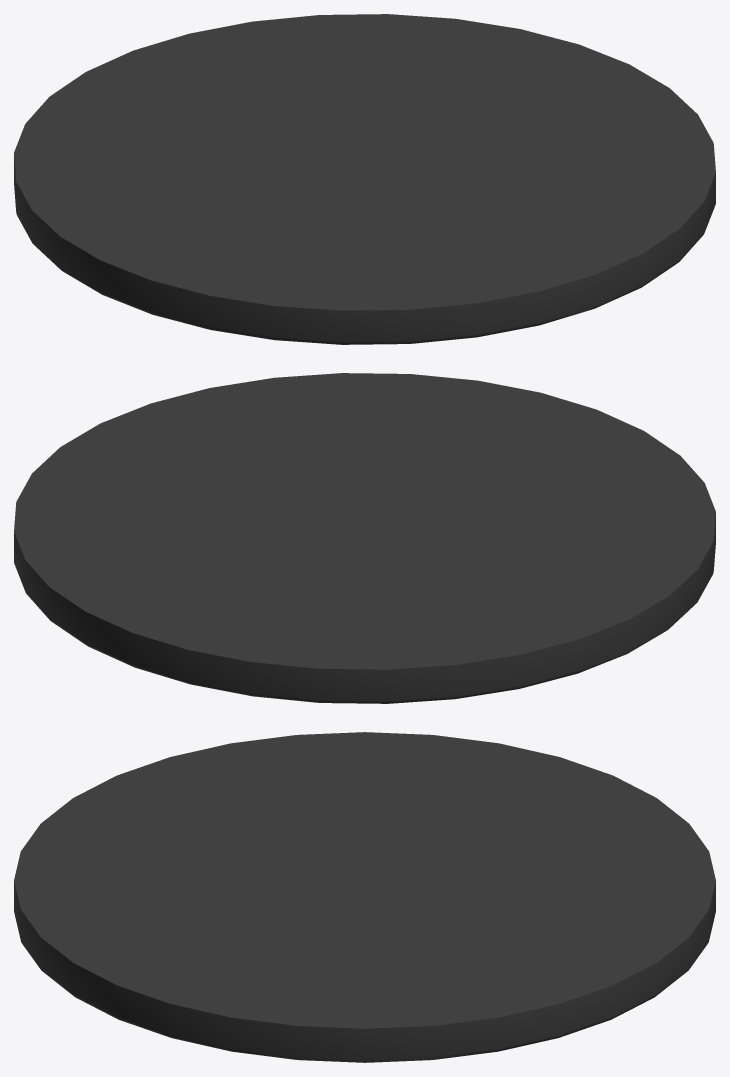
The model's file is lamp.fbx.
3 renders of one model, top to bottom at view 1: azimuth 30°, elevation 25°; view 2: azimuth 150°, elevation 25°; view 3: azimuth 270°, elevation 25°, orthographic.
Visible parts, largest first — view 1: lamp; view 2: lamp; view 3: lamp.
Boxes of the visible parts, x1,y1,x2,y2 form: lamp: (14, 14, 715, 344); lamp: (14, 373, 715, 703); lamp: (14, 732, 715, 1062).
Bounding box in the file's own units: 200 × 11.28 × 200.
